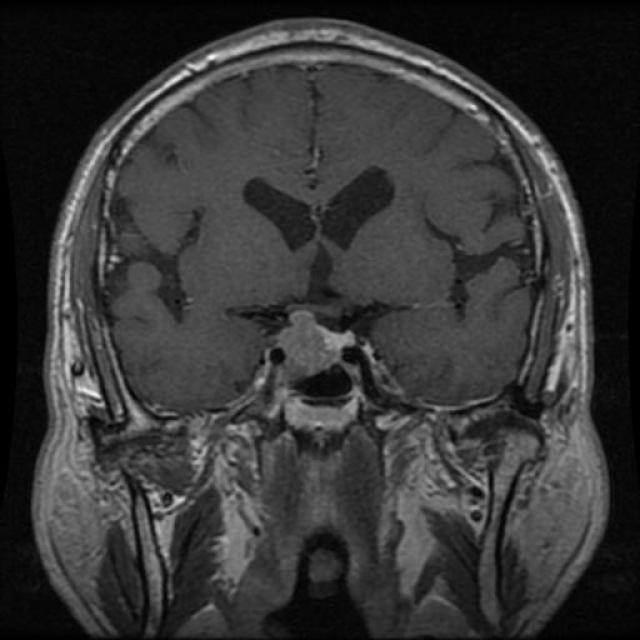pituitary: (268, 312, 369, 436)
